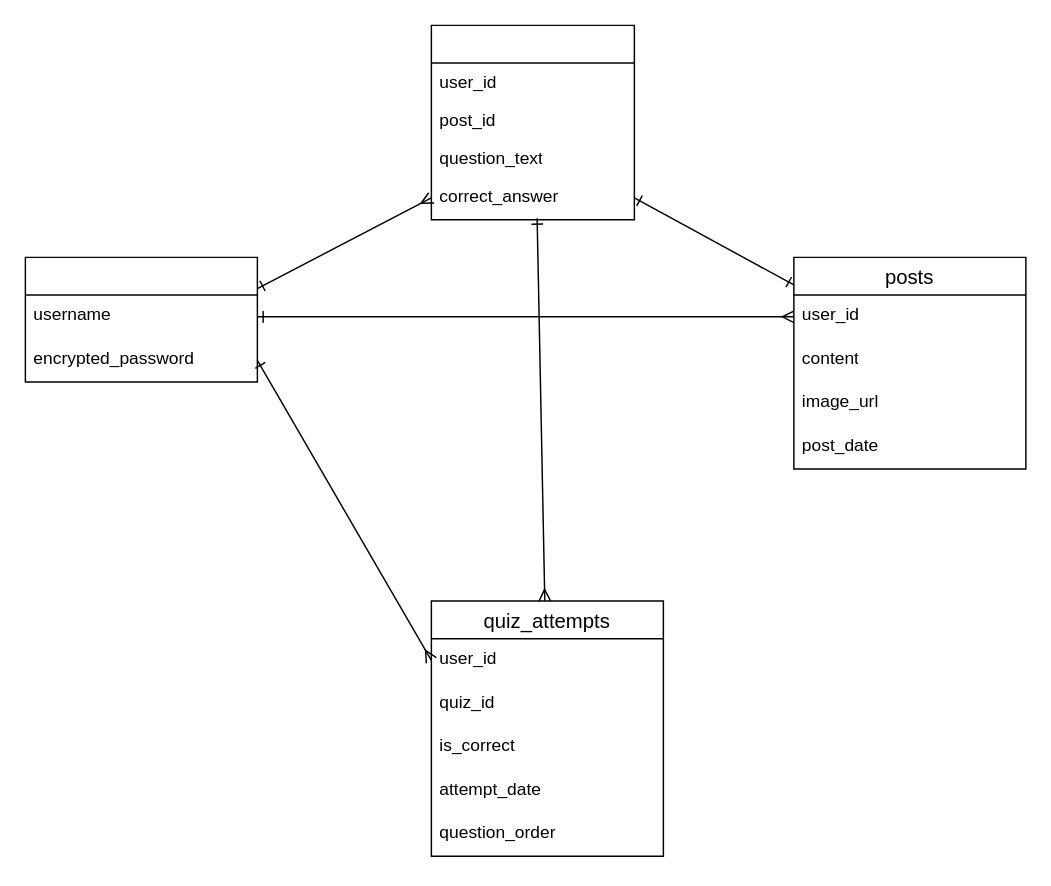
Some shapes in this 1051 by 886 pixel diagram are drawn without their labels. The box of each missing label's shape, as (x1, y1, x2, y2) in pixels:
quizzes: (430, 24, 634, 220)
users: (24, 256, 257, 382)
